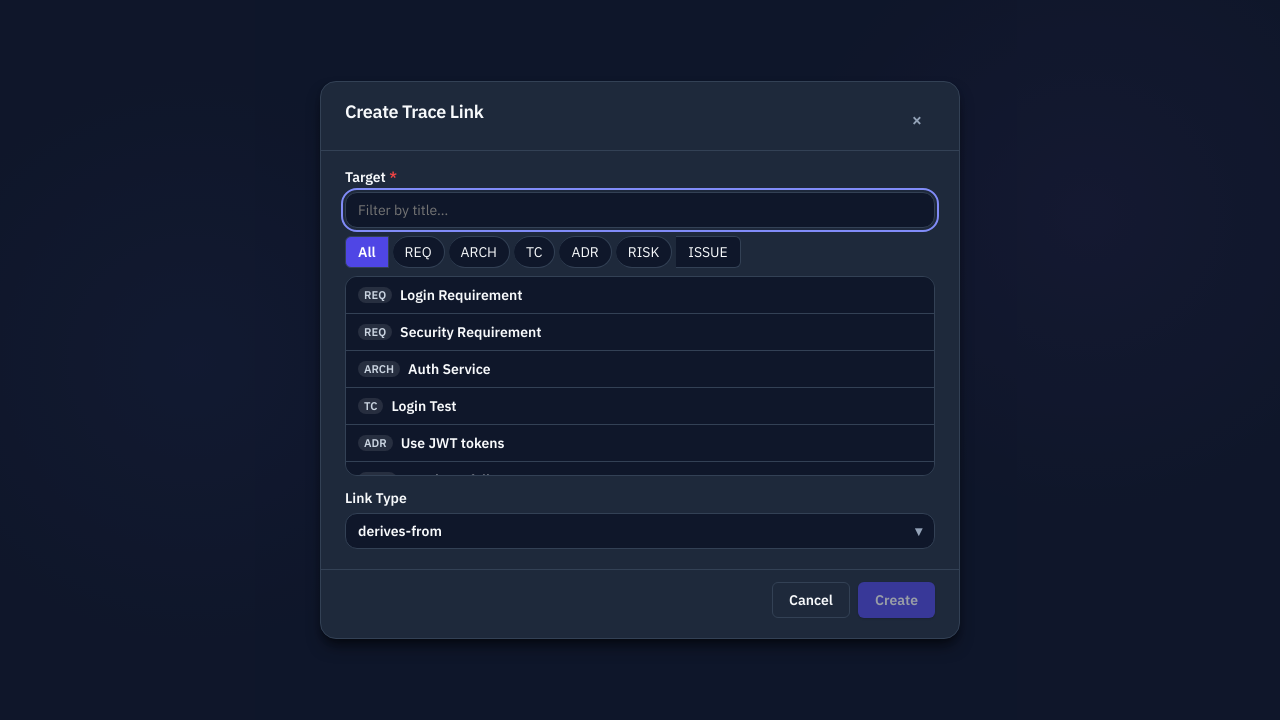
Test case: CreateTraceLinkDialog (REQ-005) › element selection › submit button is enabled after selecting an element
Click the button "REQ Login Requirement" at (375, 295), box [346, 277, 934, 313]
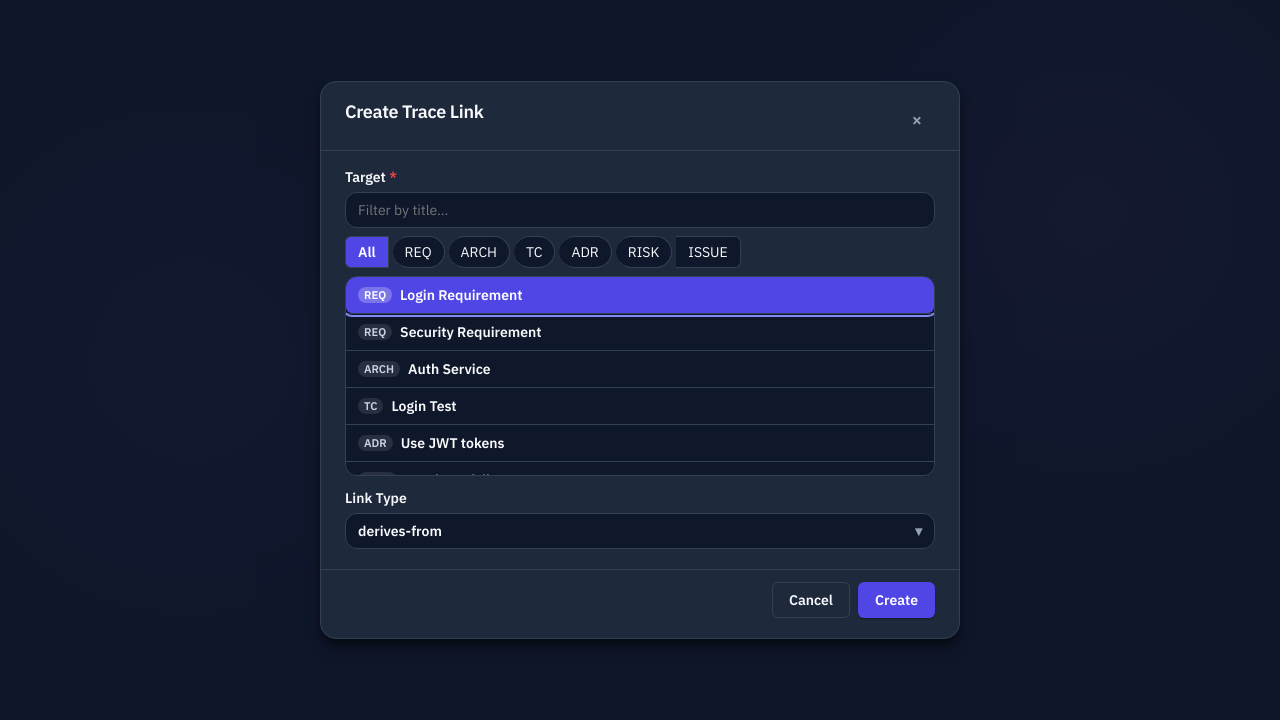
Expected: the button with test id "create-trace-link-submit" is enabled, [858, 582, 935, 618]
